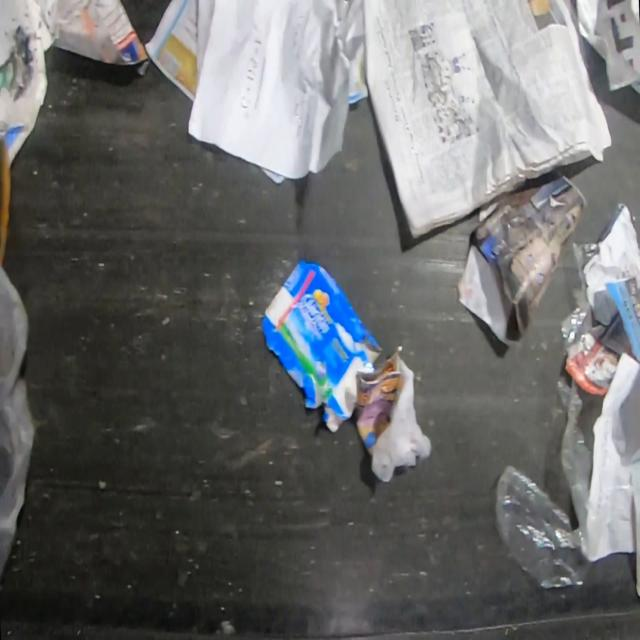cardboard: (262, 260, 380, 433), (0, 139, 10, 266)
soft_plastic: (496, 372, 604, 590), (0, 267, 35, 577), (560, 241, 601, 346)
